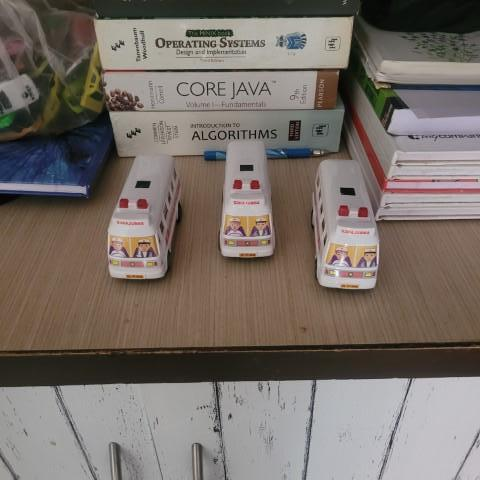ambulance: (103, 150, 183, 282), (309, 156, 382, 295), (219, 139, 276, 261)
